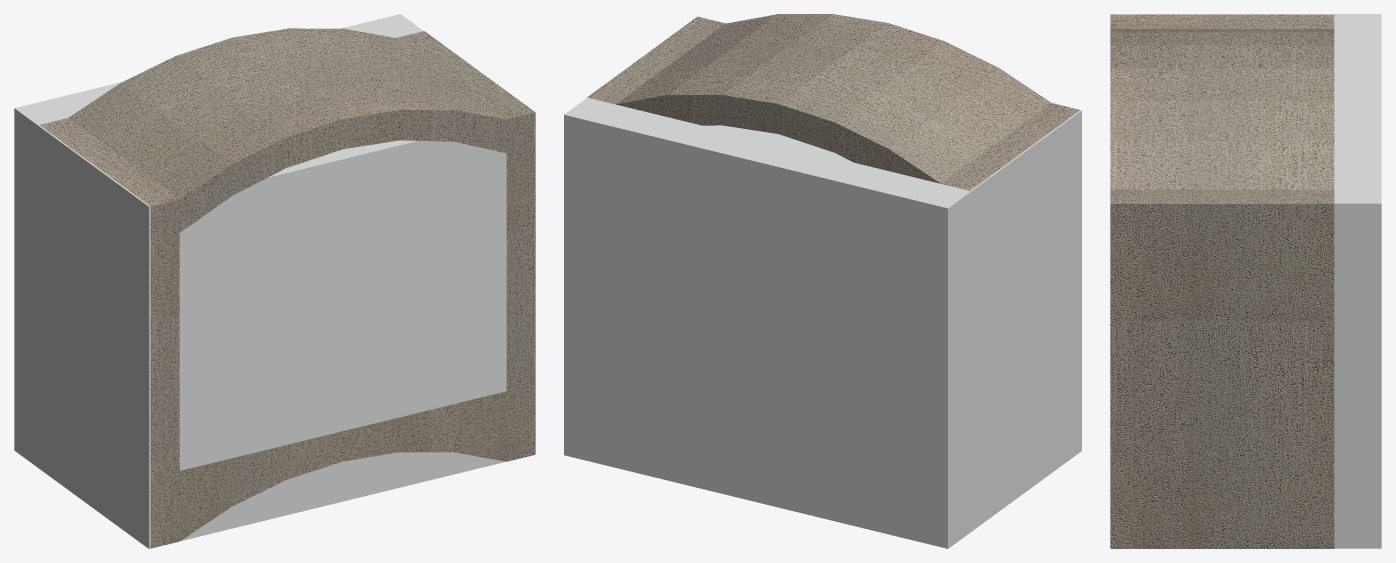
Rendered from BLCW342_3.glb.
The picture shows the model from 3 angles, left to right: view 1: azimuth 30°, elevation 25°; view 2: azimuth 150°, elevation 25°; view 3: azimuth 270°, elevation 25°; orthographic projection.
Visible parts, largest first — view 1: _bb.001, limestone; view 2: _bb.001, limestone; view 3: limestone, _bb.001.
Boxes of the visible parts, x1,y1,x2,y2 form: _bb.001: [14, 14, 506, 548]; limestone: [40, 28, 535, 548]; _bb.001: [564, 97, 1081, 548]; limestone: [587, 14, 1079, 190]; limestone: [1110, 14, 1334, 548]; _bb.001: [1110, 14, 1381, 548].
Bounding box in the file's own units: 0.4018 × 0.38 × 0.2423.
Materials: 1 (1 with a texture image).
